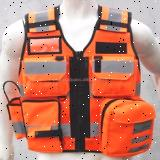Vest: (7, 2, 157, 160)
